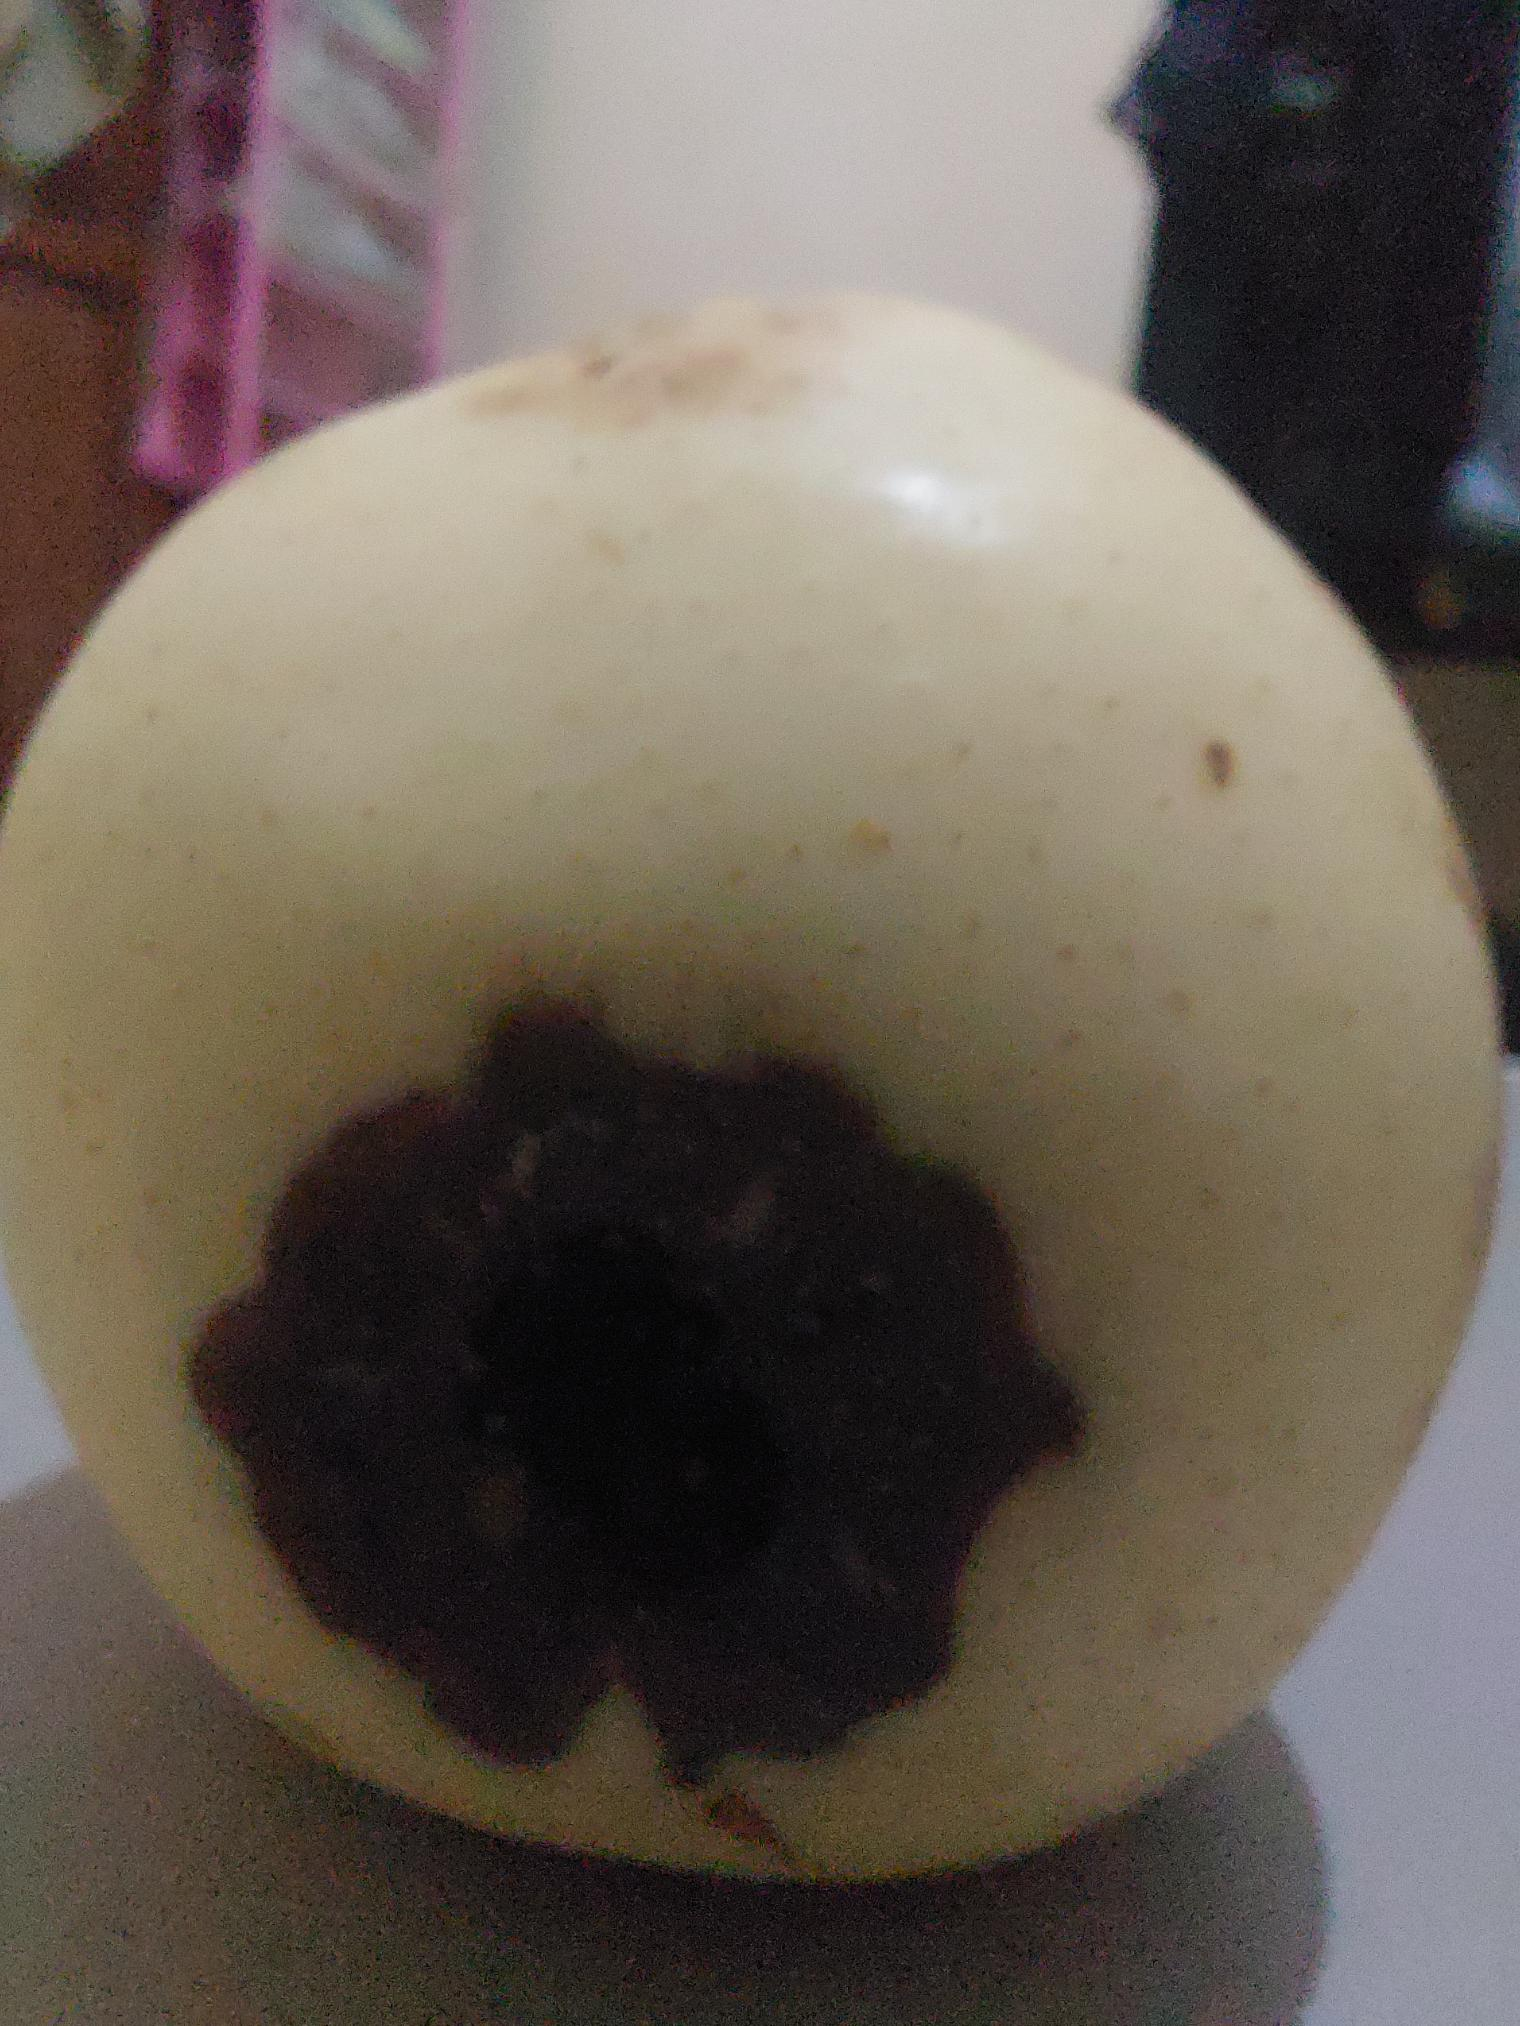Bad Pear: (0, 302, 1520, 1860)
